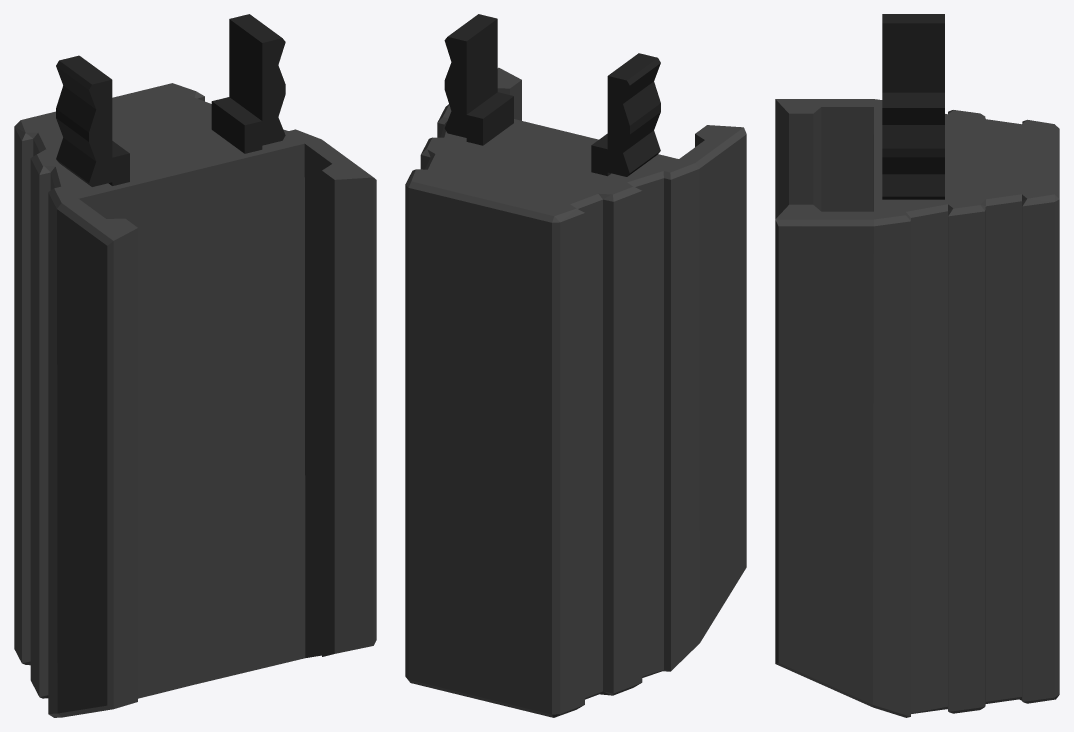
Rendered from SMGLaser.glb.
3 renders of one model, left to right at view 1: azimuth 30°, elevation 25°; view 2: azimuth 150°, elevation 25°; view 3: azimuth 270°, elevation 25°, orthographic. The views are drawn at different scales.
Visible parts, largest first — view 1: SMGLaser; view 2: SMGLaser; view 3: SMGLaser.
Part boxes in pixels (x1=…): SMGLaser: x1=14, y1=14, x2=376, y2=717; SMGLaser: x1=405, y1=14, x2=746, y2=717; SMGLaser: x1=775, y1=14, x2=1059, y2=717.
Size of the model in its own units: 0.8129 by 1.88 by 0.7822.
1 material, 1 textured.
